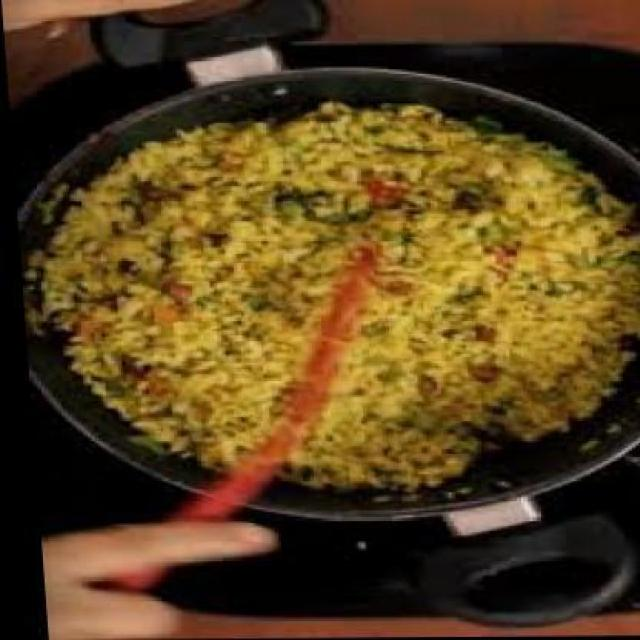poha: (24, 99, 640, 492)
